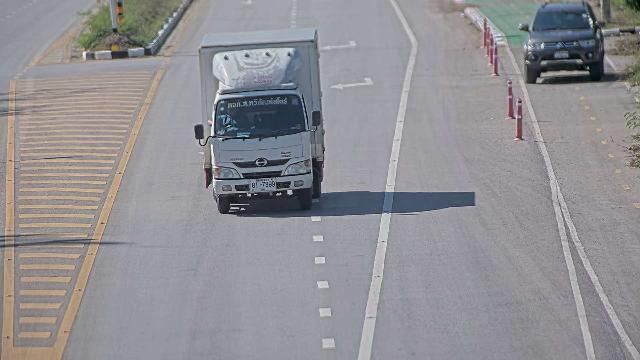pickup-truck: (518, 1, 605, 84)
truck: (192, 26, 326, 210)
